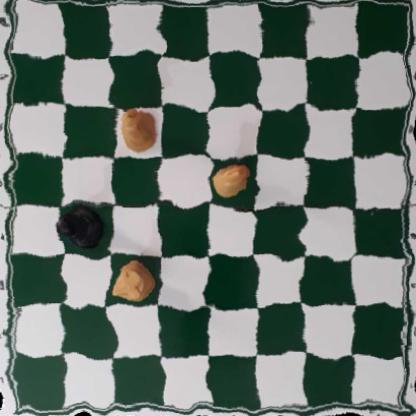black-king: (56, 208, 110, 247)
white-bishop: (215, 161, 251, 198)
white-king: (120, 103, 153, 154)
white-rook: (111, 258, 153, 298)
